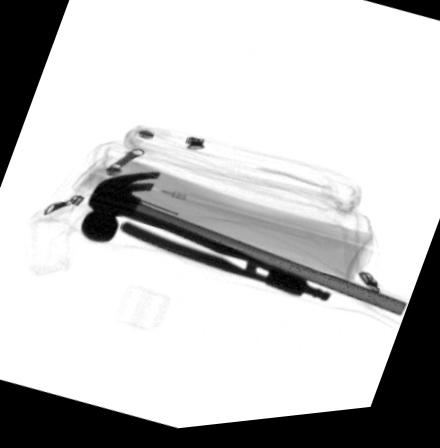Hammer: (77, 173, 405, 324)
Pliers: (121, 212, 324, 306)
